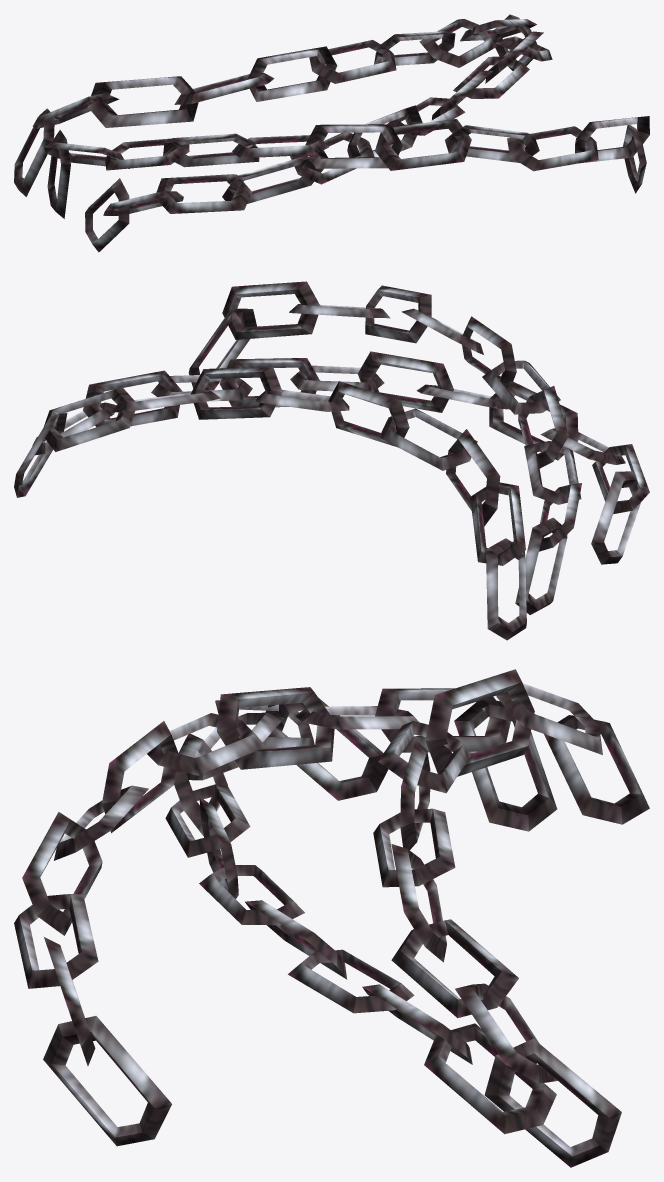
The model's file is Mesh_chain_002.FBX.
3 renders of one model, top to bottom at view 1: azimuth 30°, elevation 25°; view 2: azimuth 150°, elevation 25°; view 3: azimuth 270°, elevation 25°, orthographic. The views are drawn at different scales.
Visible parts, largest first — view 1: Mesh_chain_002; view 2: Mesh_chain_002; view 3: Mesh_chain_002.
Part boxes in pixels (x1,y1,x2,y2): Mesh_chain_002: (14,14,649,252); Mesh_chain_002: (14,281,649,640); Mesh_chain_002: (14,669,649,1167).
Bounding box in the file's own units: 81.61 × 21.01 × 56.79.
